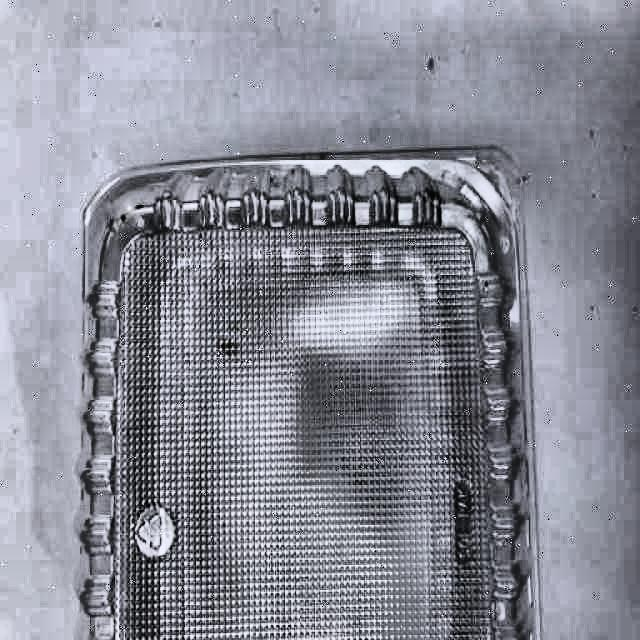plastic: (73, 146, 540, 640)
